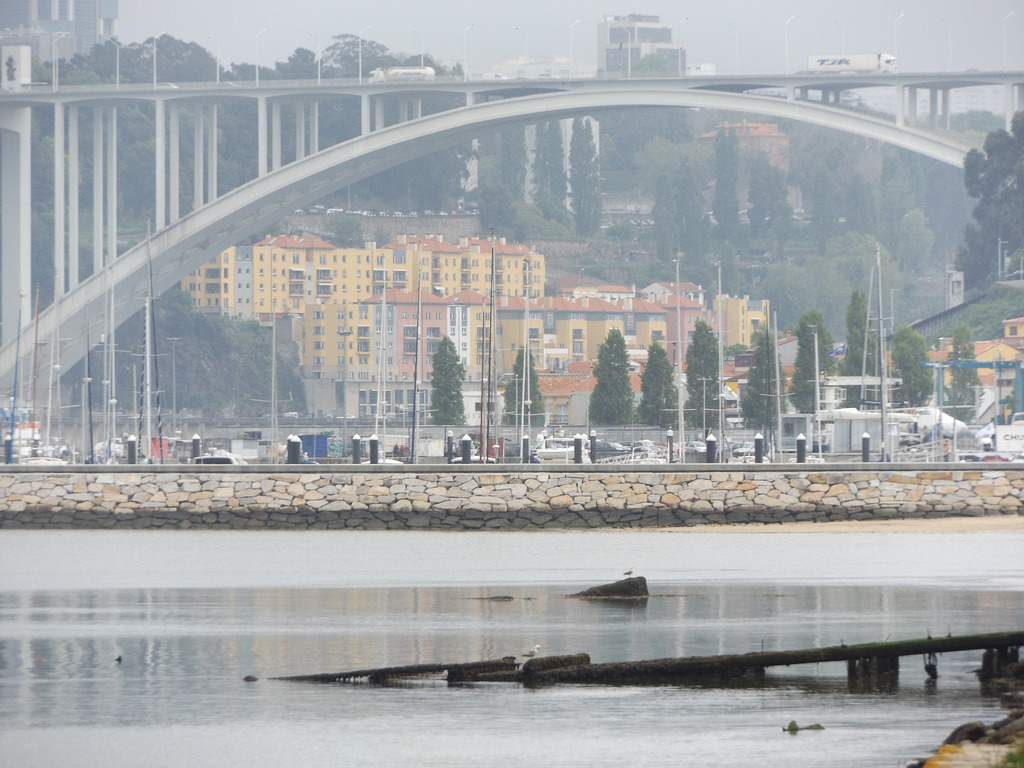arrabida: (0, 65, 1023, 396)
